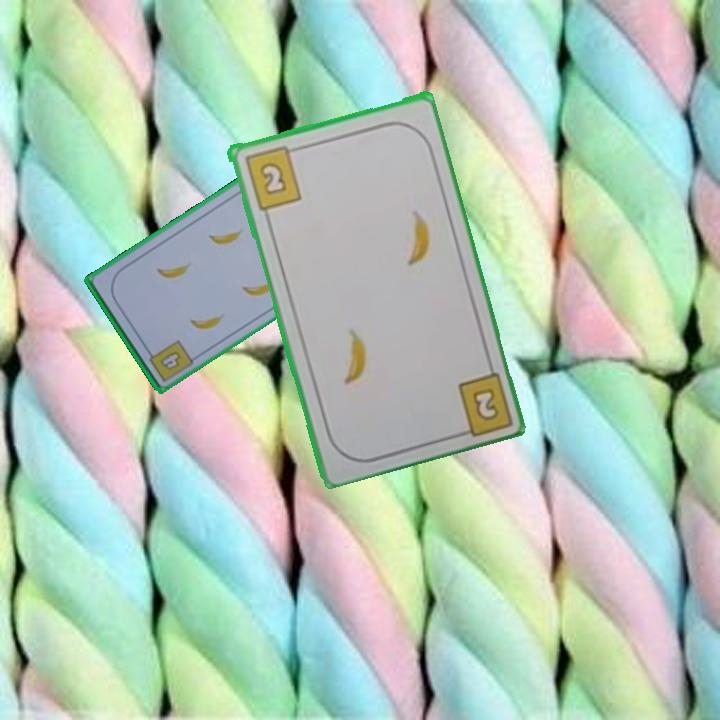2b: (240, 141, 304, 212), (450, 366, 512, 438)
4b: (143, 336, 196, 385)
